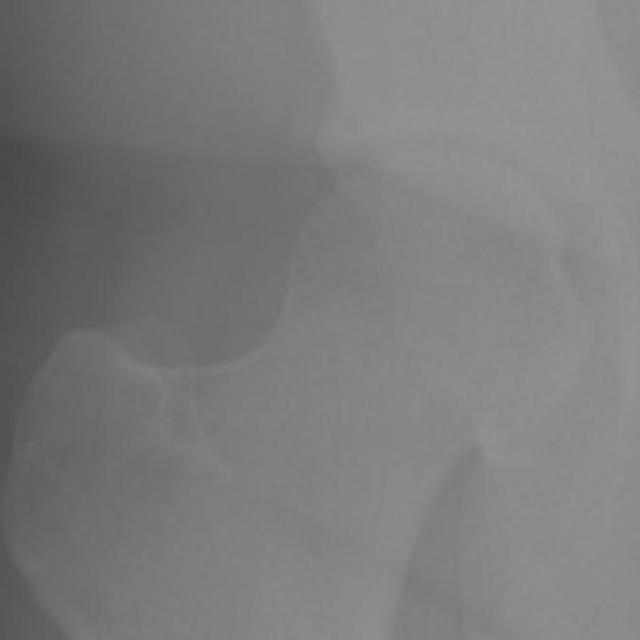Fitted_femural_head: (313, 160, 432, 313)
